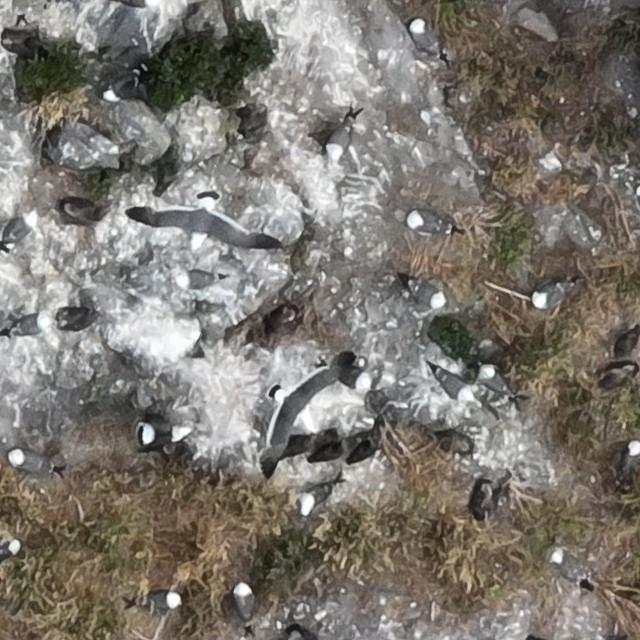F: (128, 189, 264, 252), (260, 369, 328, 473)
umineko: (549, 547, 587, 583), (326, 116, 356, 160), (330, 362, 374, 391), (11, 312, 51, 340), (5, 210, 36, 246), (438, 373, 472, 401), (103, 77, 139, 102), (174, 271, 226, 288), (407, 214, 446, 235), (10, 451, 50, 471), (410, 19, 434, 52), (534, 283, 564, 309), (412, 284, 444, 308), (234, 582, 253, 620), (137, 428, 174, 447), (477, 366, 502, 393), (145, 590, 180, 608), (624, 443, 638, 472), (299, 493, 316, 516), (3, 539, 20, 559)
